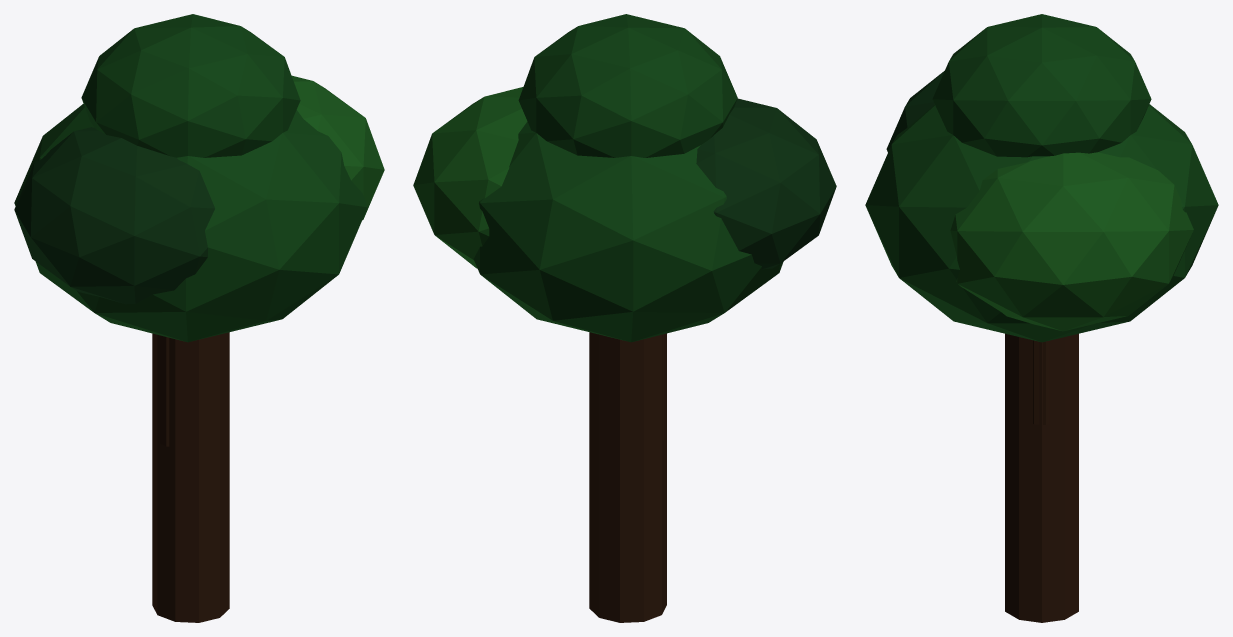
Rendered from Tree_C.obj.
3 views of the same model, side by side, from view 1: azimuth 30°, elevation 25°; view 2: azimuth 150°, elevation 25°; view 3: azimuth 270°, elevation 25° (orthographic).
Visible parts, largest first — view 1: Canopy0, Canopy1, Canopy3, Trunk, Canopy2, BranchB; view 2: Canopy0, Canopy3, Trunk, Canopy1, Canopy2; view 3: Canopy2, Canopy0, Canopy3, Trunk, BranchA, Canopy1.
Boxes of the visible parts, x1=… form: Canopy0: x1=14, y1=104, x2=367, y2=342; Canopy1: x1=14, y1=127, x2=214, y2=304; Canopy3: x1=81, y1=14, x2=300, y2=157; Trunk: x1=152, y1=332, x2=229, y2=622; Canopy2: x1=292, y1=75, x2=384, y2=219; BranchB: x1=160, y1=335, x2=169, y2=446; Canopy0: x1=473, y1=121, x2=783, y2=342; Canopy3: x1=518, y1=14, x2=737, y2=157; Trunk: x1=589, y1=332, x2=666, y2=622; Canopy1: x1=696, y1=98, x2=836, y2=269; Canopy2: x1=413, y1=87, x2=527, y2=268; Canopy2: x1=950, y1=152, x2=1193, y2=331; Canopy0: x1=865, y1=104, x2=1218, y2=342; Canopy3: x1=932, y1=14, x2=1151, y2=157; Trunk: x1=1005, y1=333, x2=1078, y2=622; BranchA: x1=1033, y1=340, x2=1049, y2=424; Canopy1: x1=886, y1=71, x2=944, y2=152.
Size of the model in its own units: 3.2 by 4.88 by 2.7.
